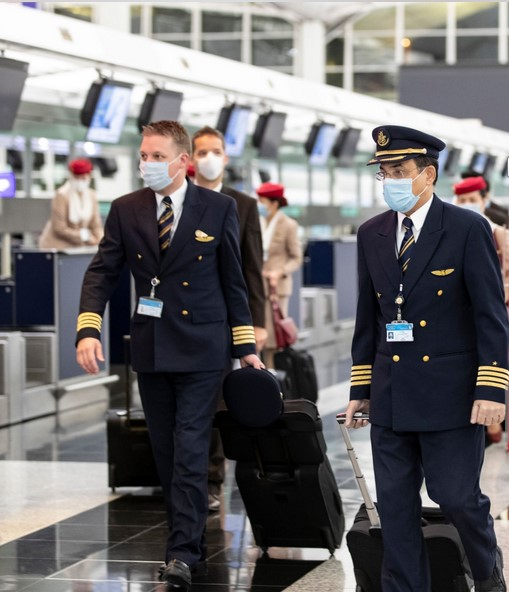face_with_mask: (370, 124, 440, 215), (132, 118, 193, 198), (192, 126, 226, 182), (455, 174, 489, 224), (249, 182, 289, 221), (66, 158, 93, 189)
